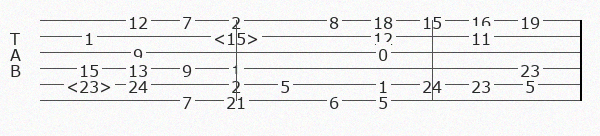0: (378, 44, 392, 60)
1: (84, 28, 98, 44), (231, 60, 245, 76), (378, 76, 392, 92)
11: (471, 28, 495, 44)
12: (128, 12, 152, 28), (373, 28, 397, 44)
13: (128, 60, 152, 76)
15: (79, 60, 103, 76), (422, 12, 446, 28)
16: (471, 12, 495, 28)
18: (373, 12, 397, 28)
19: (520, 12, 544, 28)
2: (231, 12, 245, 28), (231, 76, 245, 92)
21: (226, 92, 250, 108)
23: (471, 76, 495, 92), (520, 60, 544, 76)
24: (128, 76, 152, 92), (422, 76, 446, 92)
5: (280, 76, 294, 92), (378, 92, 392, 108), (525, 76, 539, 92)
6: (329, 92, 343, 108)
7: (182, 92, 196, 108), (182, 12, 196, 28)
8: (329, 12, 343, 28)
9: (133, 44, 147, 60), (182, 60, 196, 76)
harmonic: (66, 76, 116, 92), (213, 28, 263, 44)
